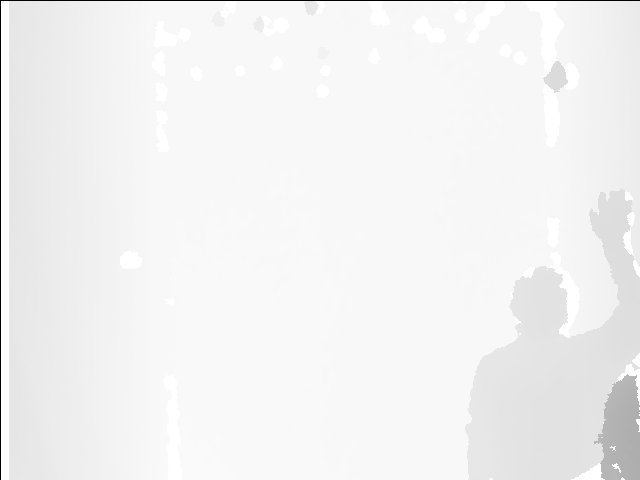hand: (586, 187, 633, 244)
